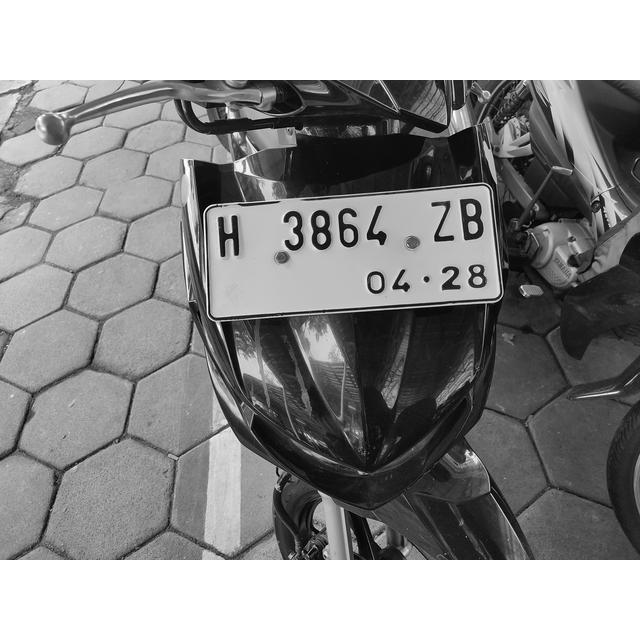license: (211, 194, 490, 302)
